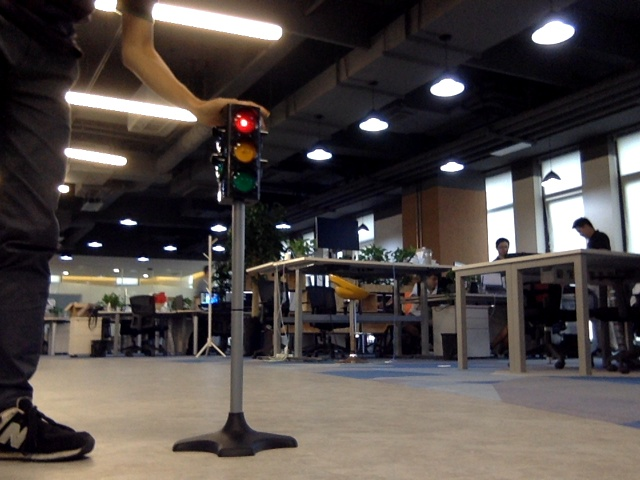red: (230, 108, 259, 196)
